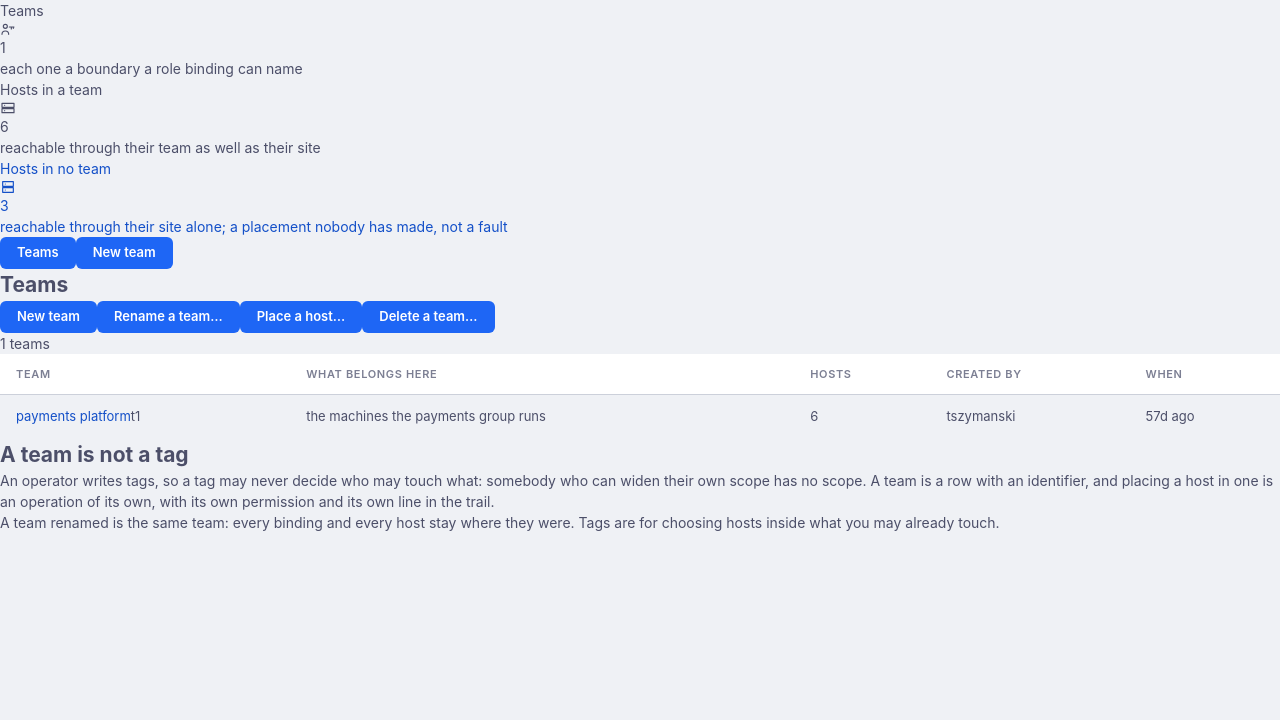
Scenario: placing a host in a team › says what moving a host costs the people who had it, before it is moved
The image size is (1280, 720).
Click the button with test id "place-a-host" at (301, 316), box [240,300,362,332]
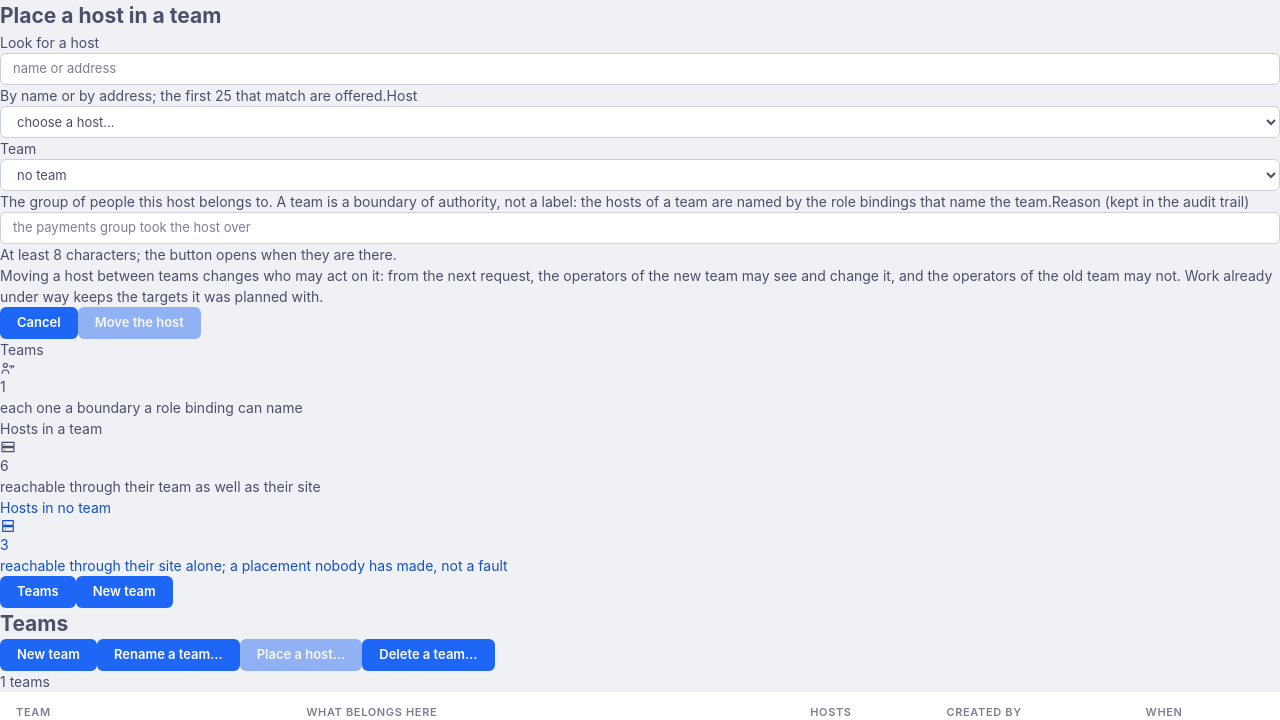
expect the text "the operators of the old team may not" is shown: met, box [0,266,1272,304]
